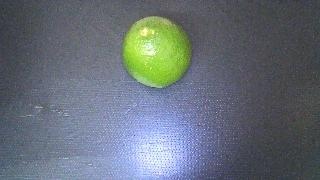EXPORTACION: (123, 16, 191, 88)
